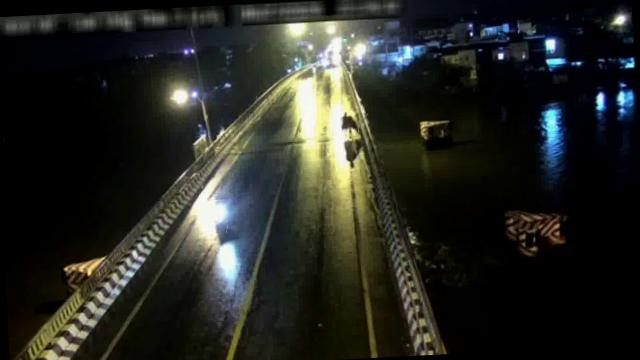Bike: (210, 199, 228, 234)
Truck: (340, 110, 360, 139)
